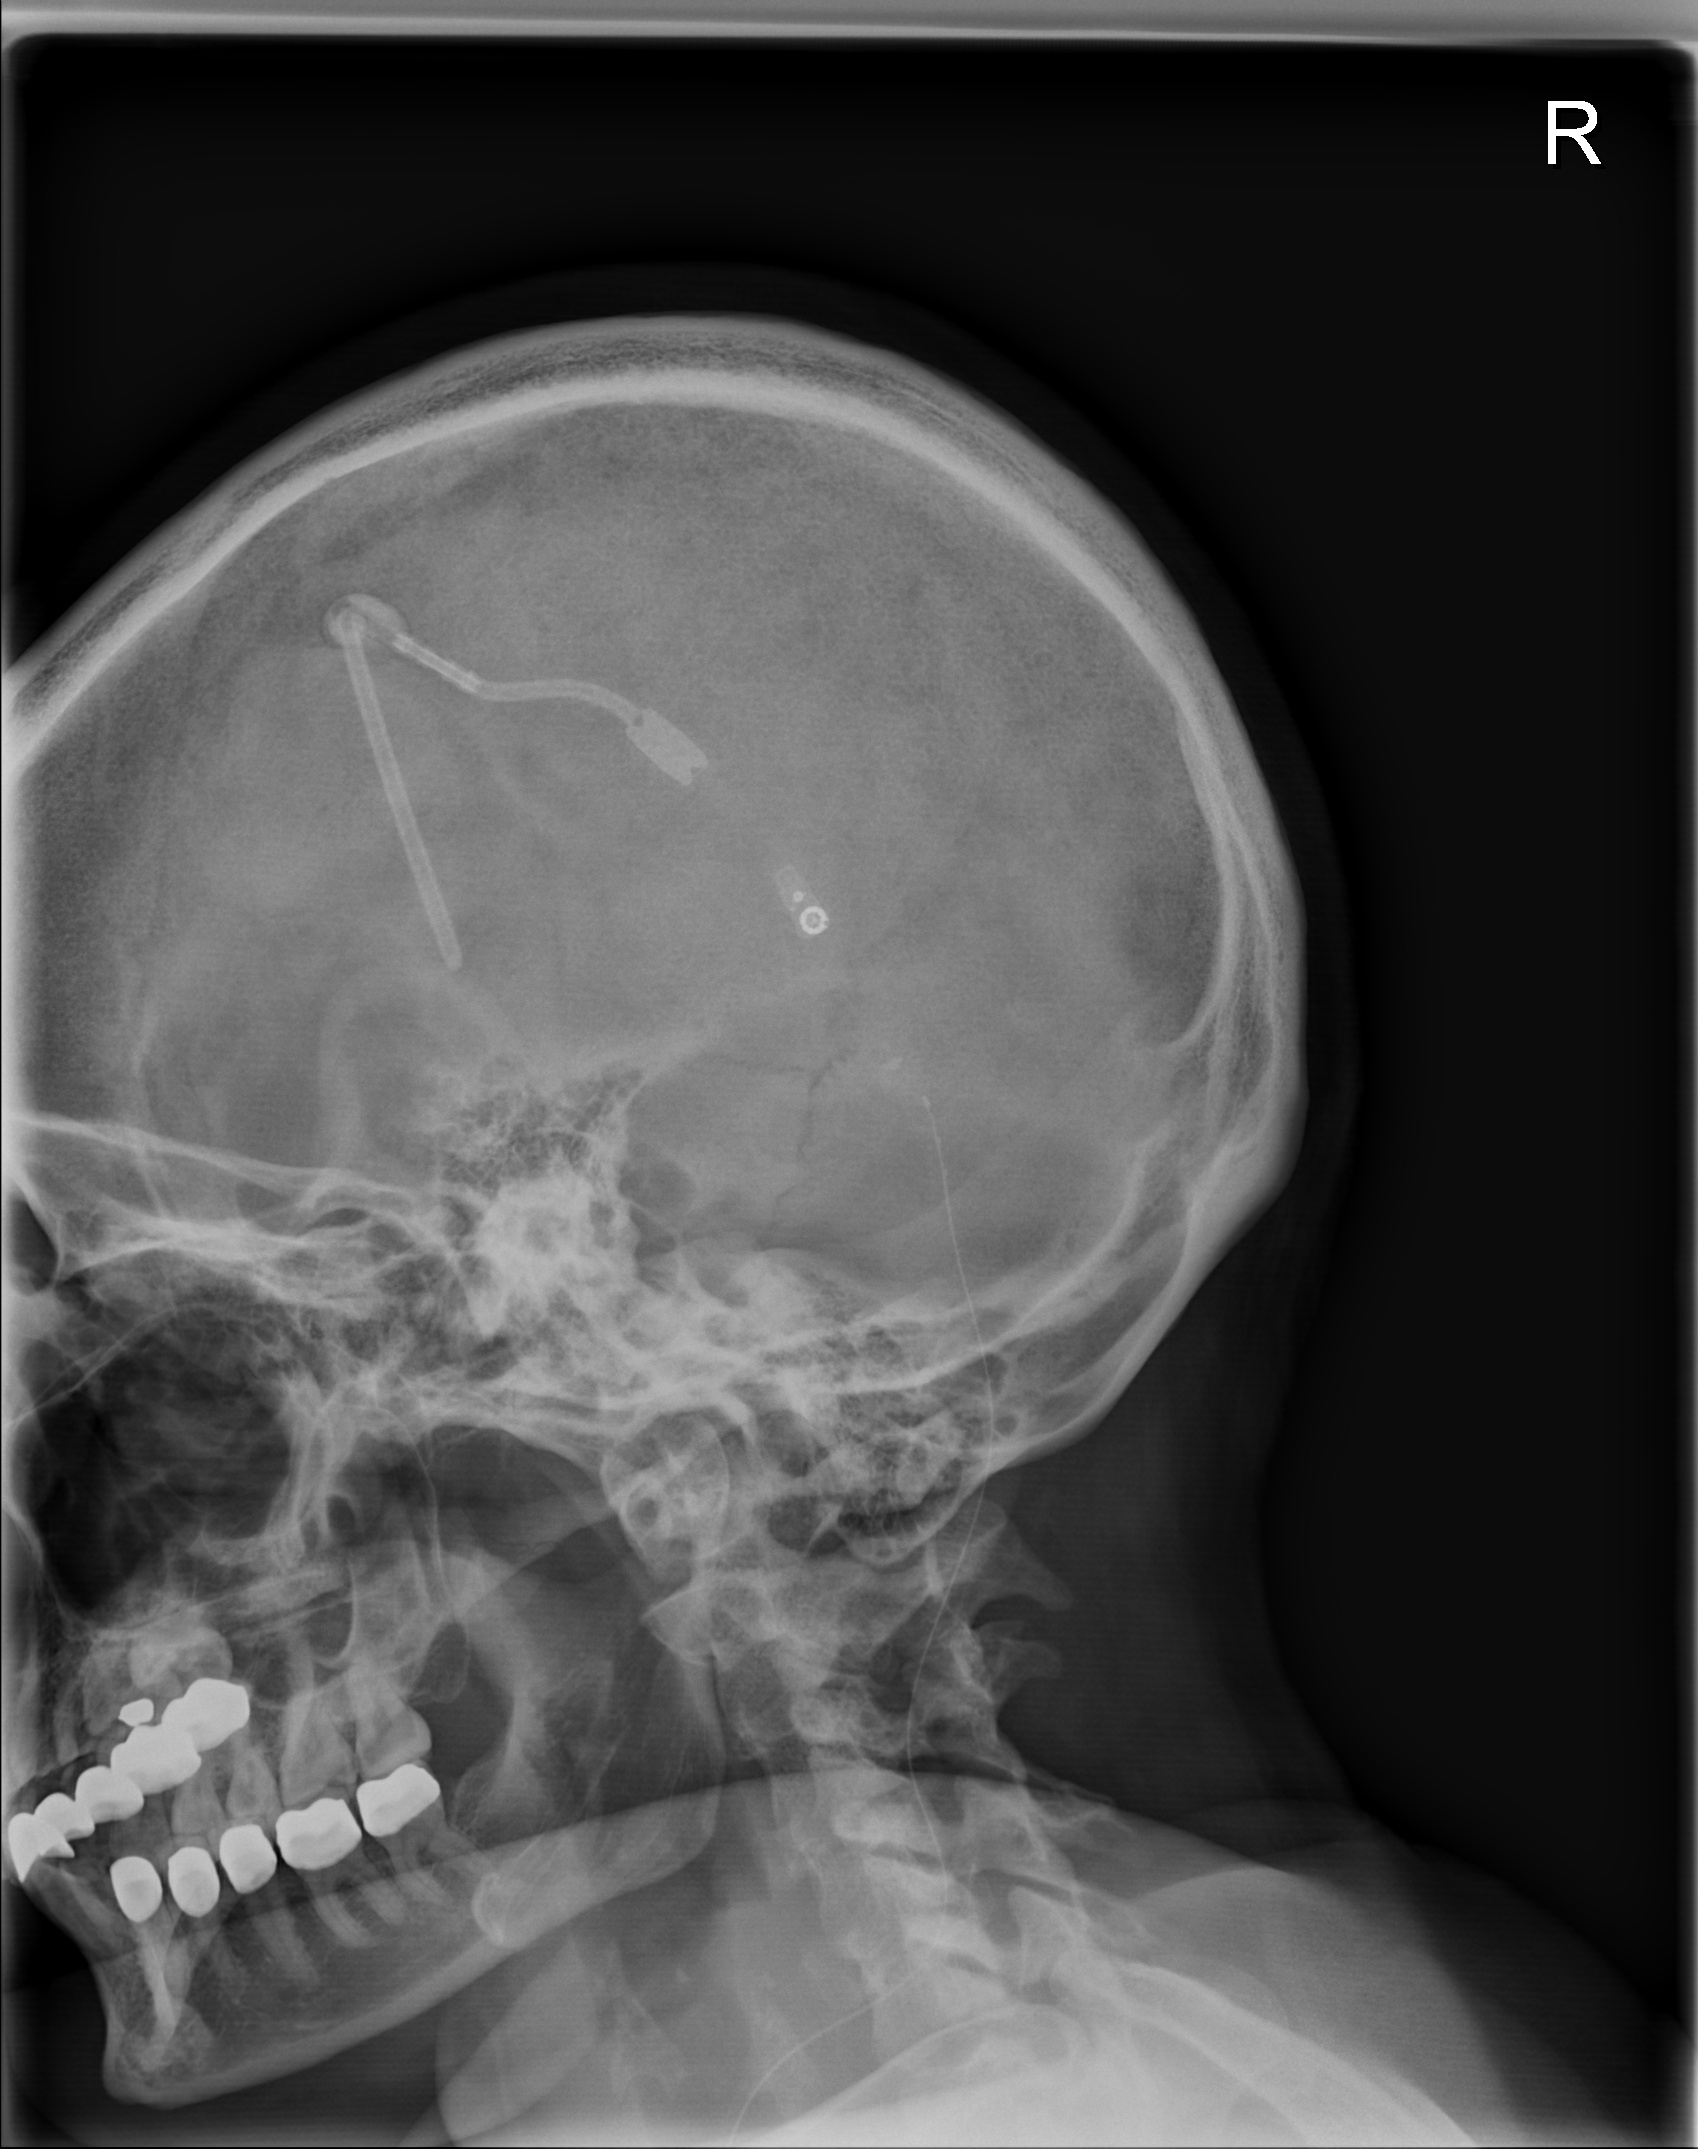Codman Hakim: (773, 877, 839, 952)
